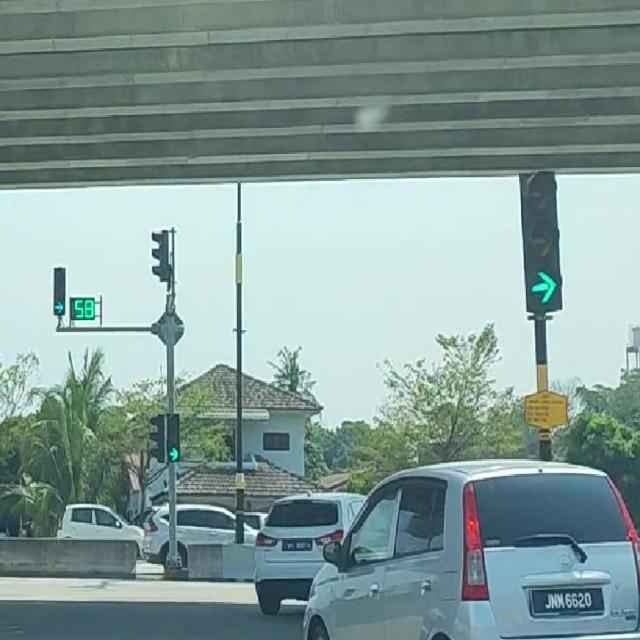car: (300, 458, 640, 640), (142, 503, 260, 569), (58, 503, 145, 559)
traffic light: (519, 172, 564, 316), (151, 230, 171, 282), (148, 416, 164, 462), (167, 414, 180, 463), (53, 267, 66, 316)
